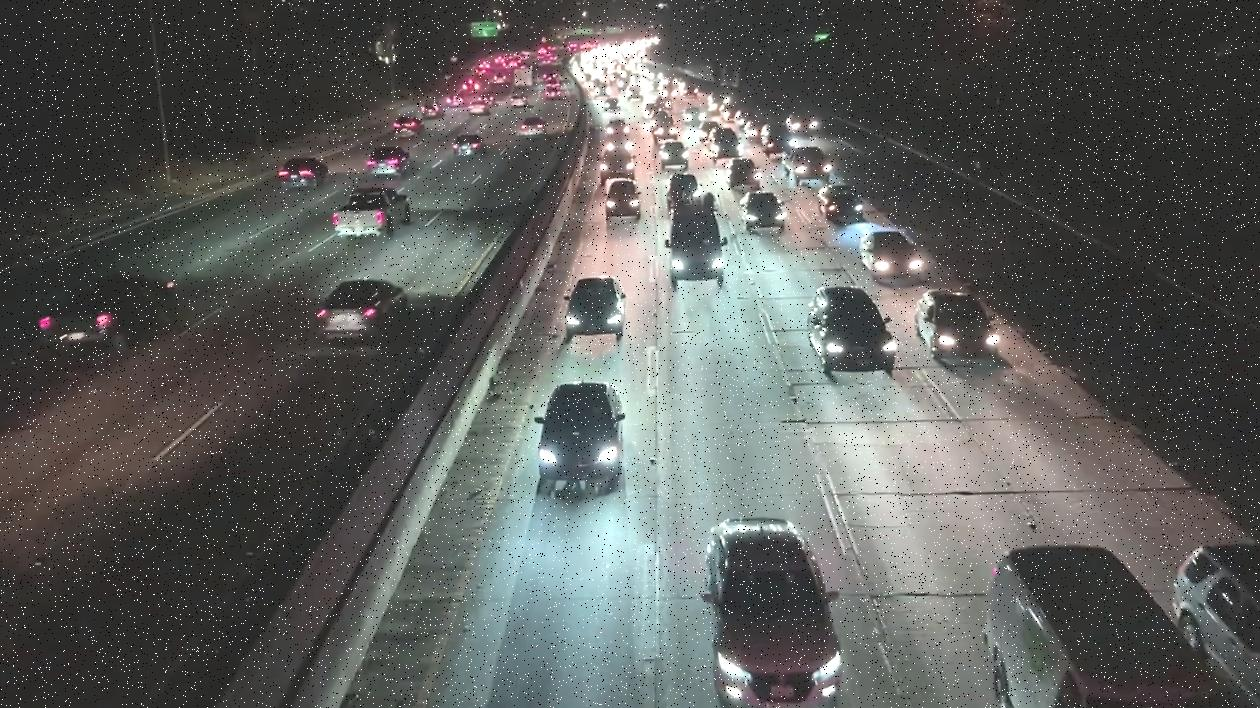car: (983, 542, 1215, 708), (701, 510, 839, 708), (1179, 530, 1260, 698), (39, 268, 173, 358), (532, 378, 627, 490), (816, 287, 898, 377), (314, 281, 414, 348), (913, 291, 995, 365), (663, 209, 732, 291), (864, 228, 946, 286), (330, 186, 403, 245), (562, 277, 626, 343), (738, 191, 788, 230), (777, 146, 835, 179), (603, 181, 644, 221), (275, 158, 326, 190), (819, 184, 860, 221), (362, 147, 408, 174), (451, 131, 484, 156), (394, 116, 428, 140), (726, 158, 756, 183), (659, 142, 688, 166), (520, 115, 546, 138)
